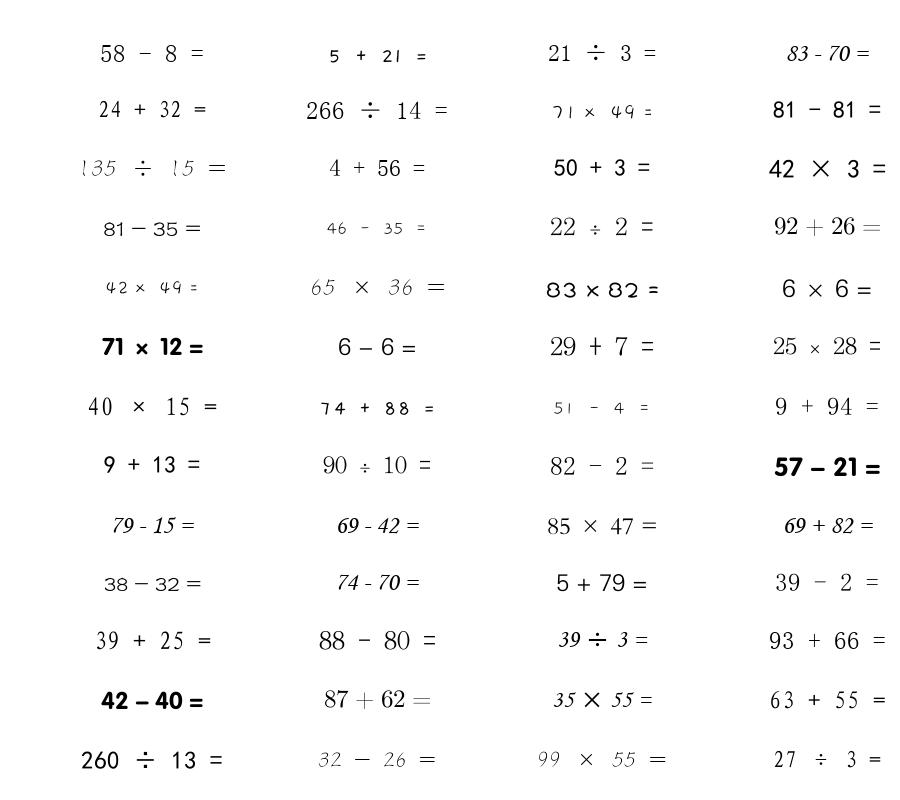MQ: (81, 751, 223, 770), (306, 101, 448, 119), (78, 160, 226, 177), (87, 397, 217, 416), (319, 630, 436, 650), (769, 159, 886, 178), (94, 631, 211, 650), (310, 279, 445, 295), (774, 217, 881, 237), (774, 457, 881, 477), (324, 690, 431, 710), (769, 691, 886, 709), (550, 336, 654, 356), (537, 751, 667, 767), (769, 632, 886, 649), (550, 217, 654, 236), (98, 100, 206, 118), (773, 337, 881, 355), (323, 456, 431, 474), (773, 750, 881, 768), (101, 691, 203, 710), (102, 337, 203, 356), (547, 518, 658, 535), (775, 397, 879, 415), (550, 457, 654, 475), (775, 573, 879, 591), (548, 44, 656, 61), (773, 101, 881, 118), (546, 282, 659, 298), (318, 752, 436, 767), (100, 45, 204, 62), (554, 159, 650, 177), (782, 279, 872, 298), (556, 574, 648, 592), (551, 104, 653, 120), (329, 159, 425, 176), (104, 456, 200, 473), (552, 692, 652, 708), (319, 402, 436, 415), (338, 337, 417, 356), (782, 518, 873, 534), (110, 517, 194, 534), (335, 517, 419, 534), (103, 222, 201, 236), (557, 632, 648, 647), (104, 577, 201, 591), (785, 45, 869, 61), (335, 574, 419, 590), (105, 281, 199, 295), (327, 50, 428, 63), (327, 222, 427, 235), (553, 402, 651, 415)
